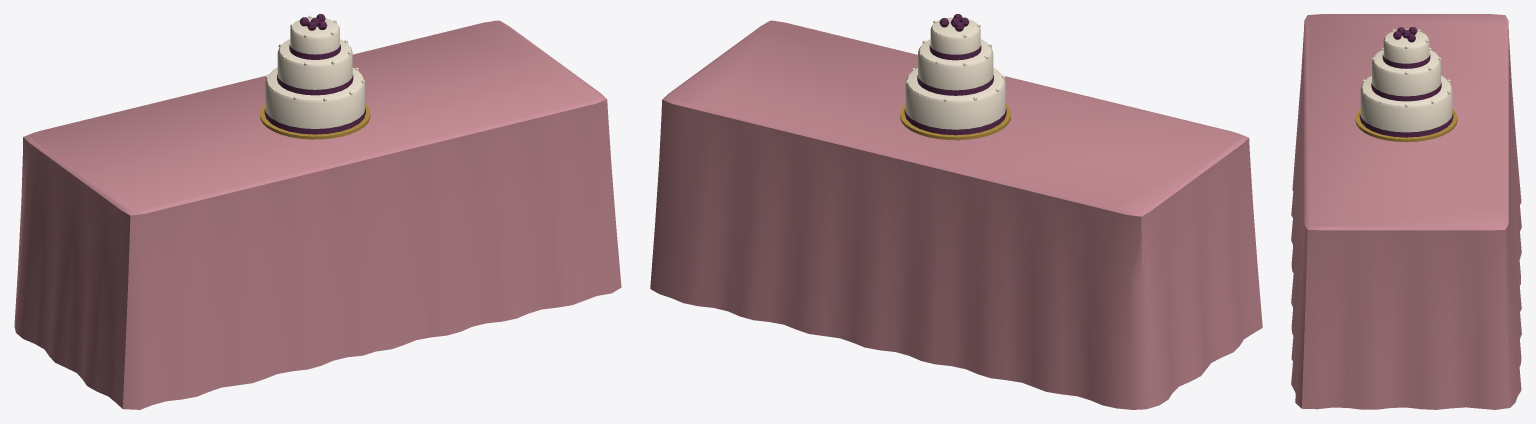
File: buffet_table.glb
The picture shows the model from 3 angles, left to right: view 1: azimuth 30°, elevation 25°; view 2: azimuth 150°, elevation 25°; view 3: azimuth 270°, elevation 25°; orthographic projection. The views are drawn at different scales.
Parts seen in each view (by area): view 1: buffet_table, cake; view 2: buffet_table, cake; view 3: buffet_table, cake.
Part boxes in pixels (left/top/right/bottom): buffet_table: left=14, top=20, right=621, bottom=409; cake: left=260, top=14, right=370, bottom=139; buffet_table: left=650, top=20, right=1262, bottom=409; cake: left=900, top=14, right=1010, bottom=140; buffet_table: left=1291, top=14, right=1521, bottom=409; cake: left=1355, top=27, right=1457, bottom=142.
Bounding box in the file's own units: 2.1 × 1.15 × 0.9039.
